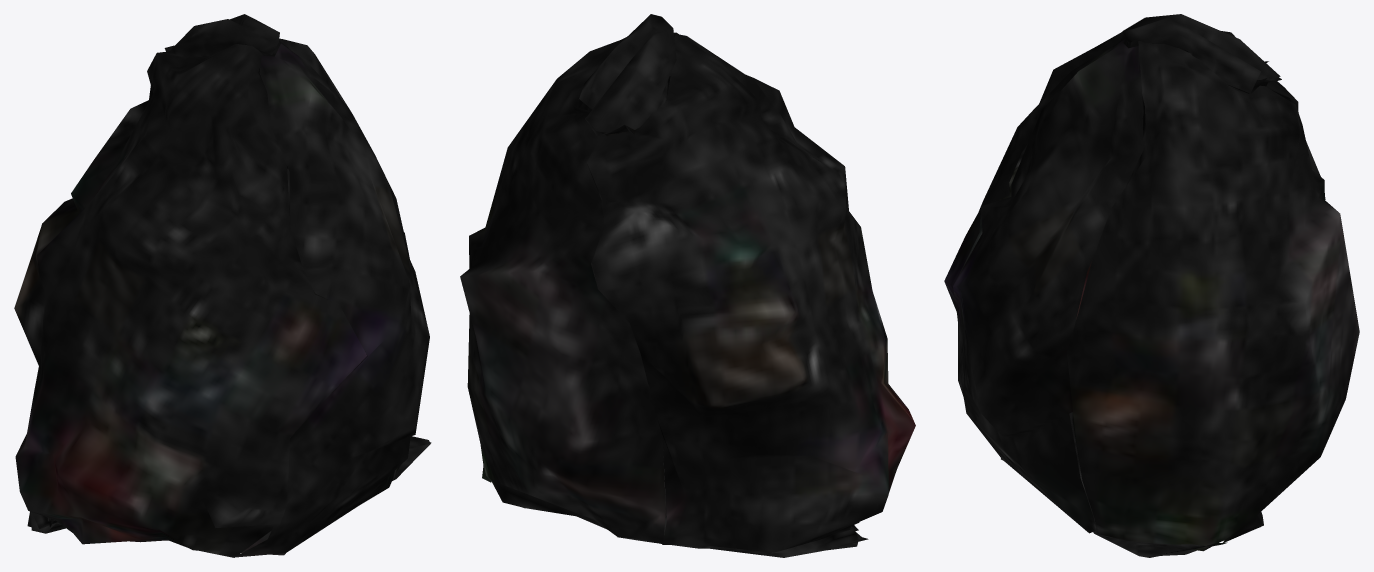
The model's file is trashbag.glb.
The picture shows the model from 3 angles, left to right: view 1: azimuth 30°, elevation 25°; view 2: azimuth 150°, elevation 25°; view 3: azimuth 270°, elevation 25°; orthographic projection.
Parts seen in each view (by area): view 1: trashbag; view 2: trashbag; view 3: trashbag.
Boxes of the visible parts, x1,y1,x2,y2 form: trashbag: [14, 14, 431, 557]; trashbag: [460, 14, 915, 557]; trashbag: [944, 14, 1359, 557].
Bounding box in the file's own units: 0.5231 × 0.5763 × 0.466.
1 material, 1 textured.
